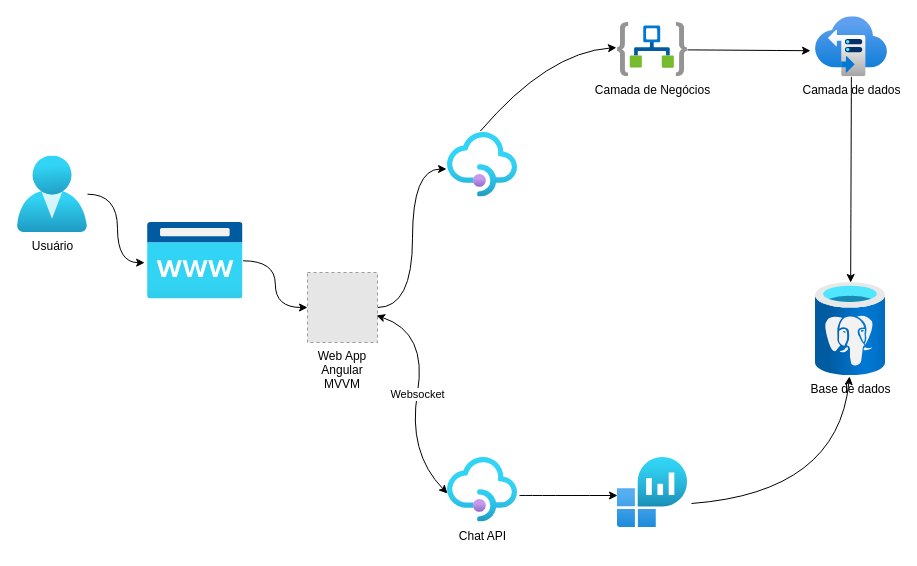
The diagram is 917 pixels wide and 566 high, and some of its shapes have lost their labels. Grey dashed boxes stand in for pictures. Each missing label, with the centre of its shape:
Api: the point at 482,164
Log Manager: the point at 652,492
Web Browser: the point at 195,260
